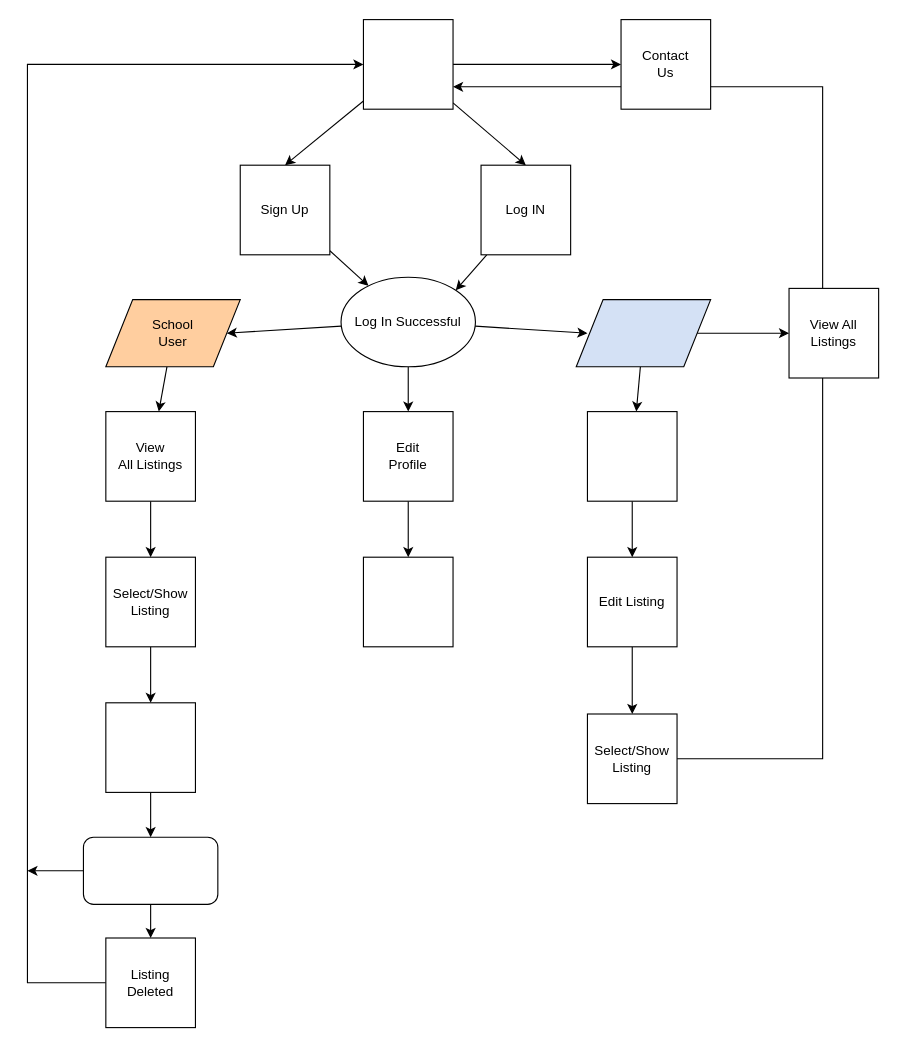
Image size: 898x1047. Some labels were removed from this diagram. The box of each missing label's shape, as (x1, y1, x2, y2) in pixels:
Add Listing: (586, 410, 677, 501)
Create Order: (105, 702, 195, 792)
Delete Profile A/c: (362, 556, 453, 647)
Home Page: (362, 18, 453, 109)
Seller User: (575, 298, 711, 367)
Stripe Transaction: (82, 836, 218, 904)
